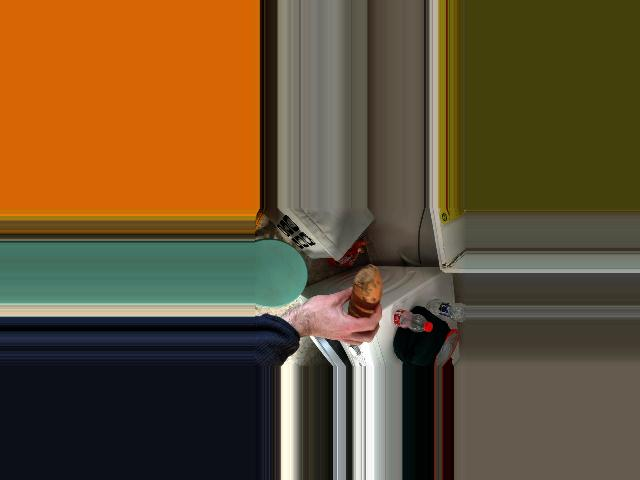sweet_potato: (340, 278, 384, 323)
